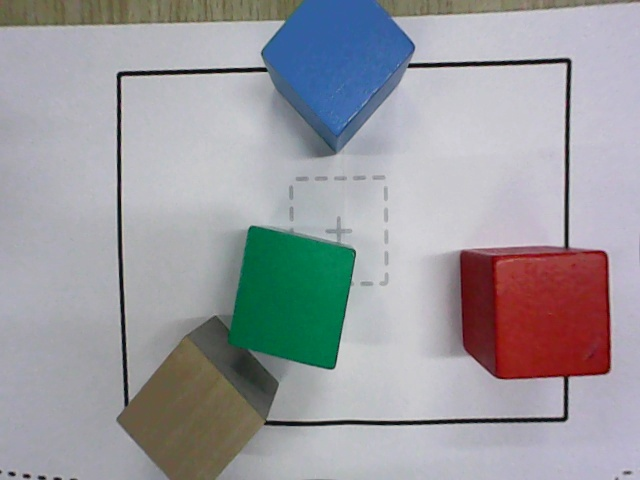upside of big cube: (117, 336, 268, 479), (261, 0, 416, 137), (228, 227, 356, 370), (494, 254, 610, 378)
